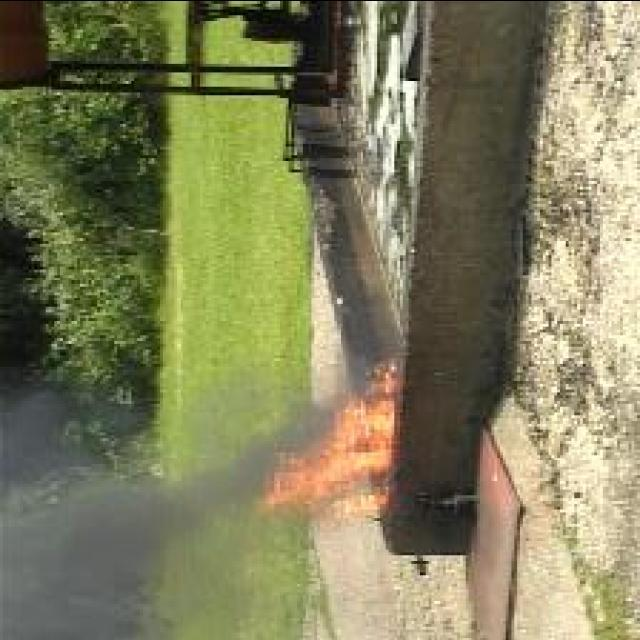Fire: (258, 357, 396, 520)
